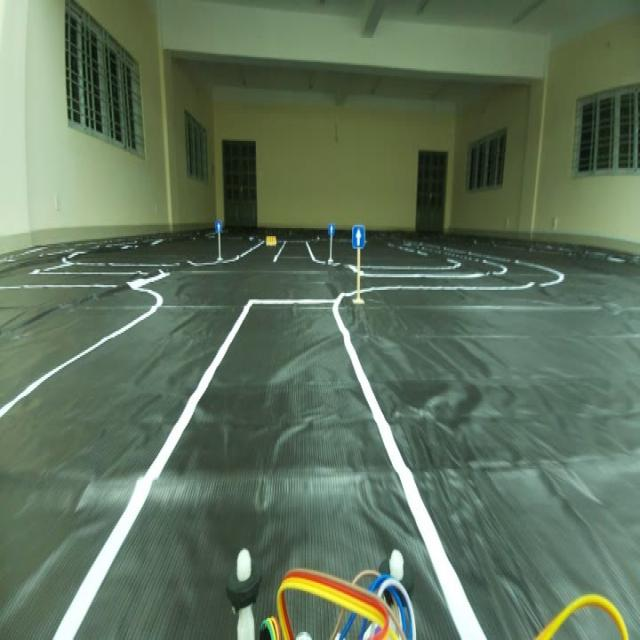onewayroad: (349, 219, 368, 250), (325, 215, 336, 238), (214, 218, 224, 235)
roadblock: (262, 232, 280, 250)
